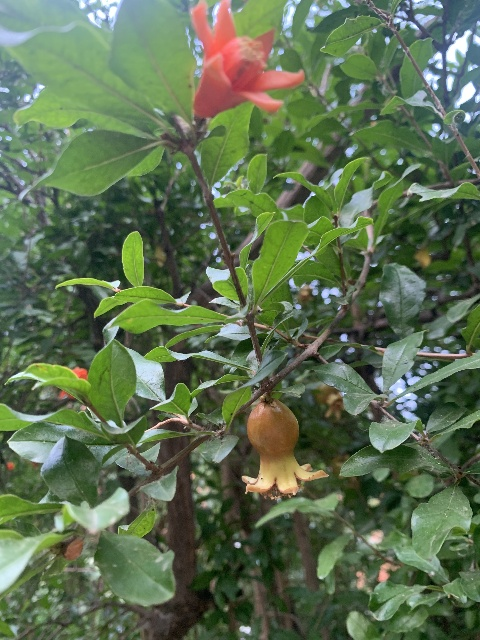early-fruit: (240, 398, 329, 499)
flower: (189, 0, 304, 118)
